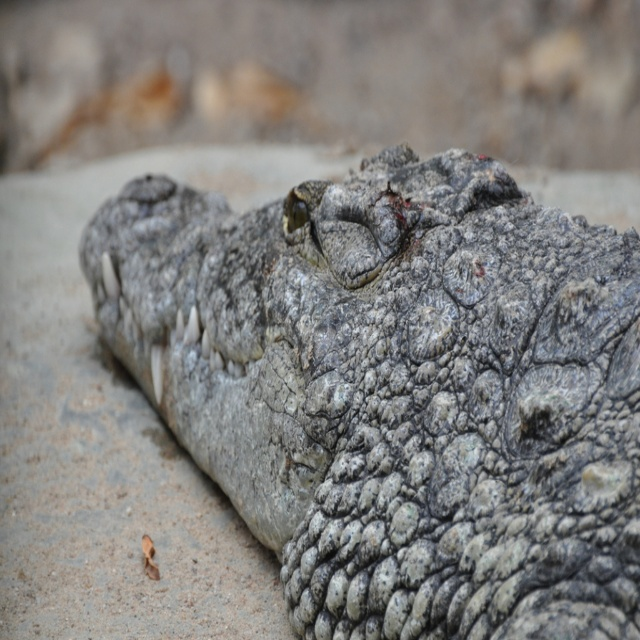Crocodile: (76, 147, 640, 639)
